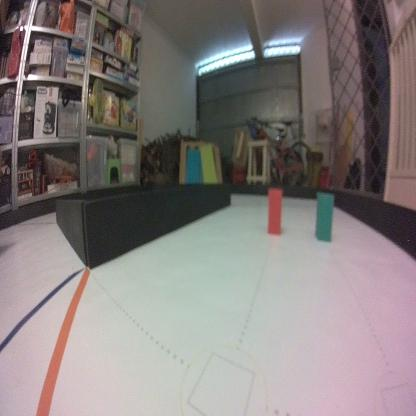green: (315, 191, 335, 244)
red: (268, 188, 282, 235)
